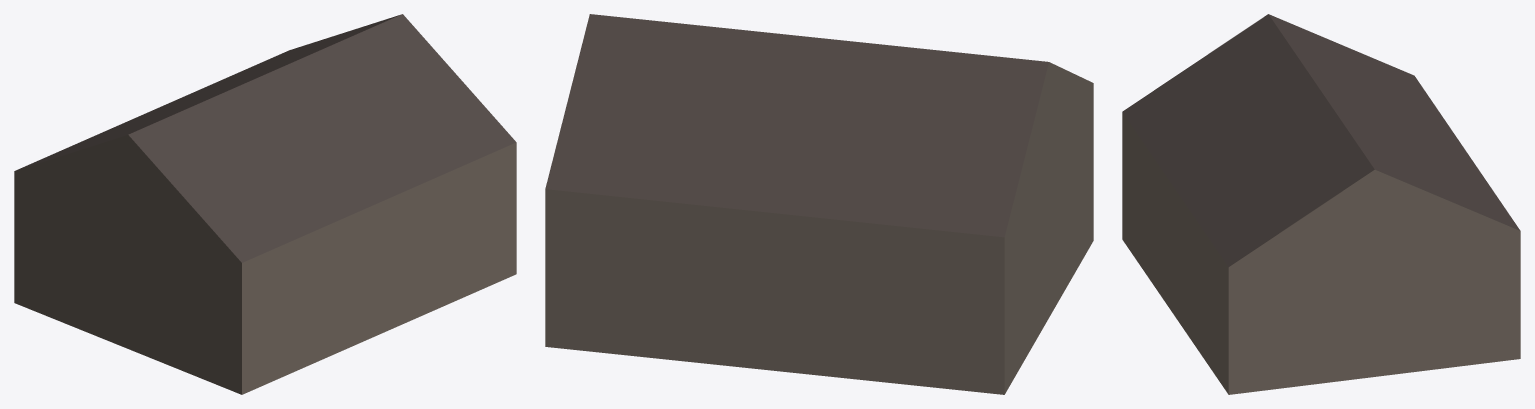
3 views of the same model, side by side, from view 1: azimuth 30°, elevation 25°; view 2: azimuth 150°, elevation 25°; view 3: azimuth 270°, elevation 25° (orthographic). The views are drawn at different scales.
Parts seen in each view (by area): view 1: HP-w369317559; view 2: HP-w369317559; view 3: HP-w369317559.
Boxes of the visible parts, box(x1,y1,x2,y2) form: HP-w369317559: box(14, 14, 516, 394); HP-w369317559: box(545, 14, 1093, 394); HP-w369317559: box(1122, 14, 1520, 394).
Bounding box in the file's own units: 19.32 × 9.74 × 16.97.
